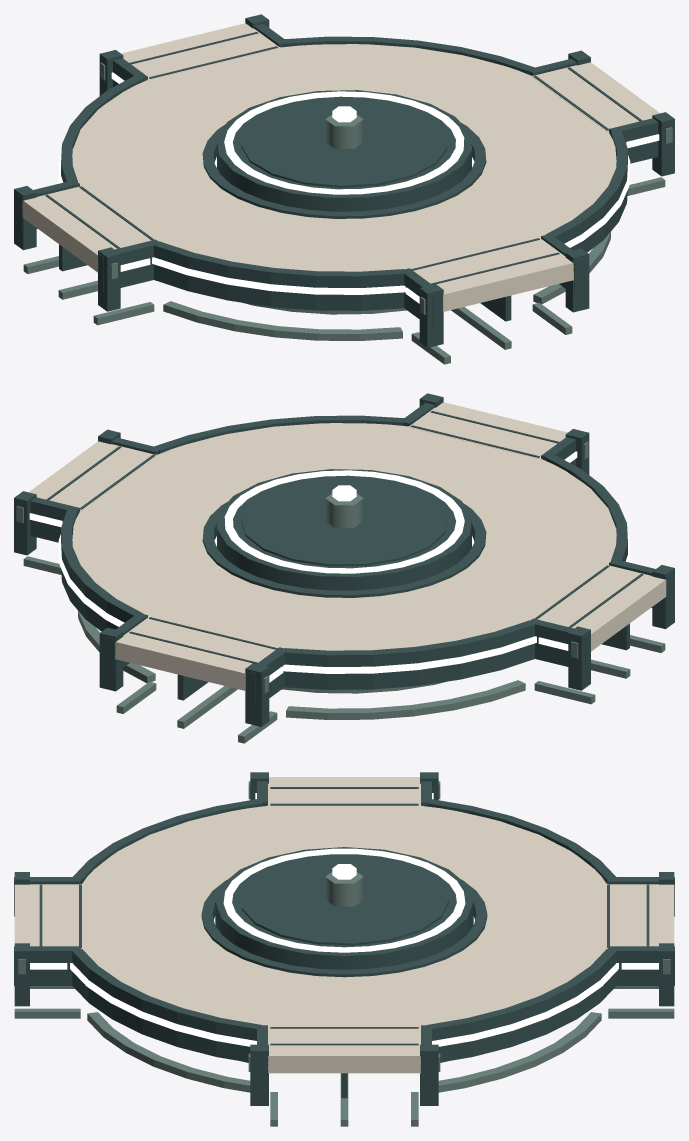
The model's file is Round_4_lab.glb.
The picture shows the model from 3 angles, top to bottom: view 1: azimuth 30°, elevation 25°; view 2: azimuth 150°, elevation 25°; view 3: azimuth 270°, elevation 25°; orthographic projection.
Parts seen in each view (by area): view 1: Round_4; view 2: Round_4; view 3: Round_4.
Part boxes in pixels (x1,y1,x2,y2): Round_4: (14,14,674,364); Round_4: (14,393,674,743); Round_4: (14,772,674,1126).
Bounding box in the file's own units: 12.02 × 2.39 × 12.02.
